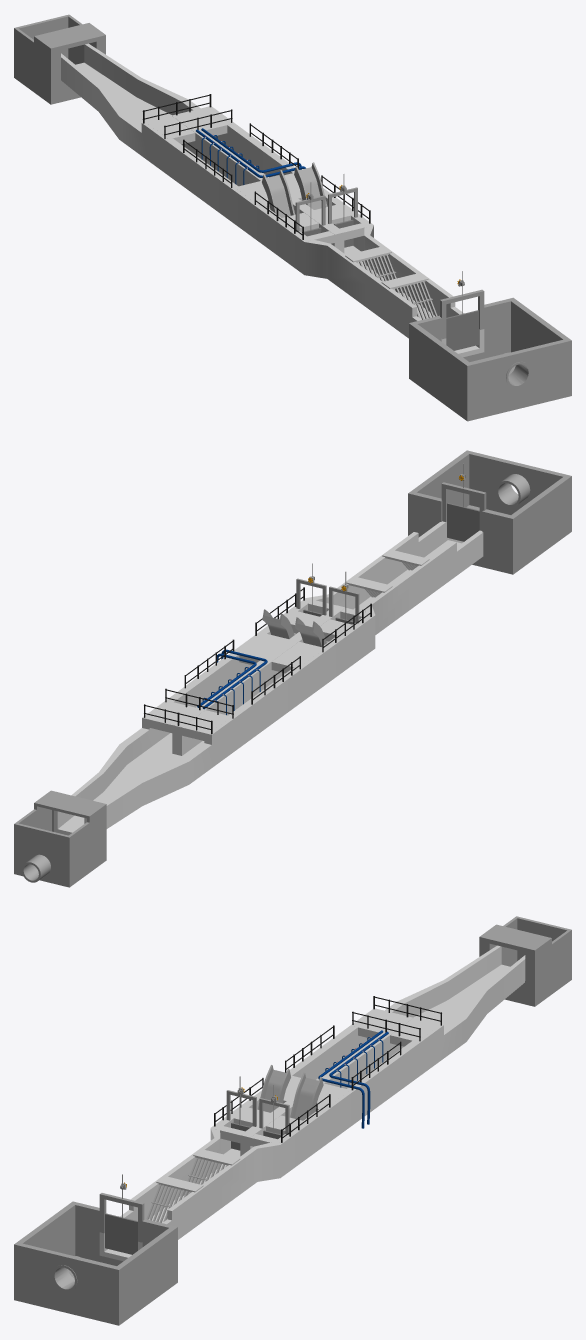
File: MainProcessBuilding.fbx
3 renders of one model, top to bottom at view 1: azimuth 30°, elevation 25°; view 2: azimuth 150°, elevation 25°; view 3: azimuth 330°, elevation 25°, orthographic.
Parts seen in each view (by area): view 1: pasted__pCube24, pCube26, pCube48, pasted__pCube7, pasted__pCube22, pasted__pCube161, pasted__pCube20, pasted__pCube19, pasted__pCube16, pasted__pCube21, pasted__pCube162, pasted__pCube6 (+1 smaller); view 2: pasted__pCube24, pCube26, pCube48, pasted__pCube7, pasted__pCube22, pasted__pCube21, pasted__pCube161, pCylinder3, pasted__pCube16, pasted__pCube162, pCylinder8, pasted__pCube19 (+1 smaller); view 3: pasted__pCube24, pCube26, pCube48, pasted__pCube7, pasted__pCube22, pasted__pCube161, pasted__pCube19, pasted__pCube20, pasted__pCube16, pasted__pCube21, pasted__pCube162, pasted__pCube6 (+1 smaller).
Boxes of the visible parts, box(x1,y1,x2,y2) form: pasted__pCube24: box(61, 43, 484, 357); pCube26: box(409, 297, 571, 421); pCube48: box(14, 14, 105, 104); pasted__pCube7: box(172, 113, 344, 253); pasted__pCube22: box(146, 106, 230, 144); pasted__pCube161: box(446, 310, 478, 350); pasted__pCube20: box(262, 170, 294, 217); pasted__pCube19: box(294, 162, 327, 209); pasted__pCube16: box(278, 204, 353, 232); pasted__pCube21: box(235, 173, 302, 209); pasted__pCube162: box(440, 289, 484, 339); pasted__pCube6: box(304, 222, 370, 243); pasted__pCube24: box(54, 521, 483, 835); pCube26: box(408, 450, 571, 574); pCube48: box(14, 790, 106, 887); pasted__pCube7: box(172, 605, 345, 755); pasted__pCube22: box(146, 701, 231, 740); pasted__pCube21: box(237, 633, 324, 673); pasted__pCube161: box(447, 503, 479, 541); pCylinder3: box(496, 474, 530, 507); pasted__pCube16: box(285, 610, 355, 641); pasted__pCube162: box(441, 482, 486, 530); pCylinder8: box(21, 854, 50, 882); pasted__pCube19: box(262, 609, 294, 638); pasted__pCube24: box(99, 945, 525, 1261); pCube26: box(14, 1201, 177, 1325); pCube48: box(479, 916, 571, 1006); pasted__pCube7: box(240, 1015, 413, 1156); pasted__pCube22: box(354, 1009, 439, 1046); pasted__pCube161: box(105, 1213, 137, 1254); pasted__pCube19: box(290, 1072, 323, 1120); pasted__pCube20: box(257, 1065, 290, 1112); pasted__pCube16: box(230, 1106, 306, 1135); pasted__pCube21: box(283, 1075, 350, 1111); pasted__pCube162: box(99, 1193, 144, 1242); pasted__pCube6: box(214, 1125, 280, 1146).
Size of the model in its own units: 5.69 by 5.58 by 45.96.
